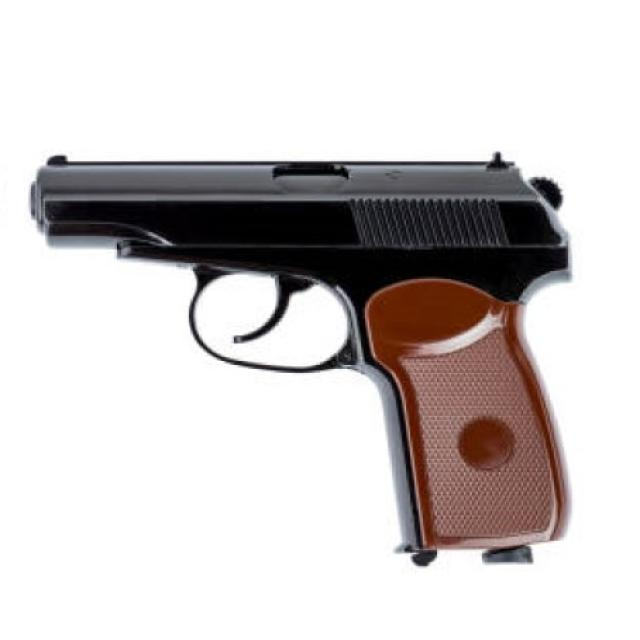pistol: (25, 142, 576, 577)
